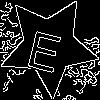E: (24, 21, 67, 74)
